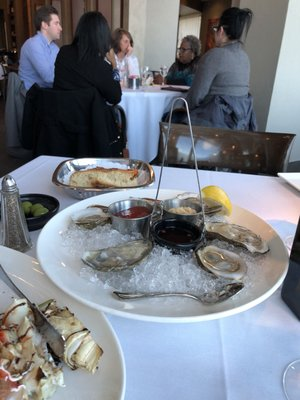pizza: (152, 192, 206, 252)
salad: (115, 280, 247, 304)
sushi: (52, 158, 152, 199), (19, 193, 60, 230)
